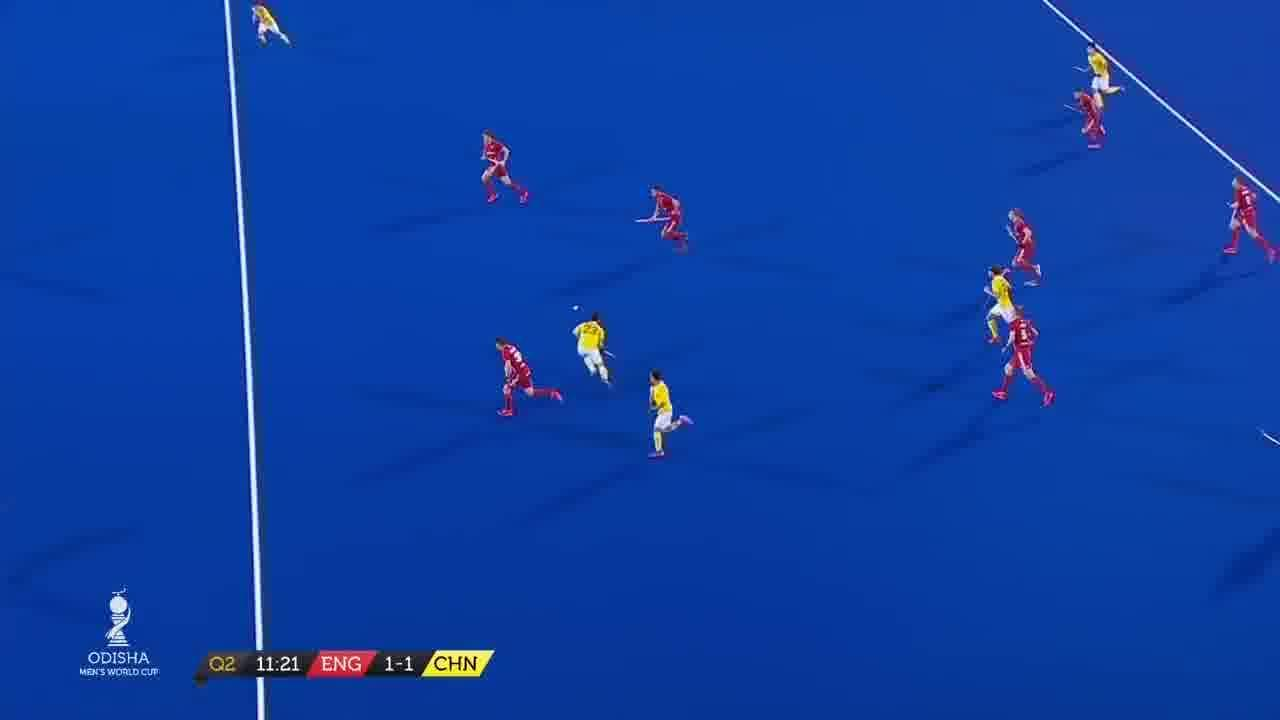ball: (570, 302, 582, 313)
